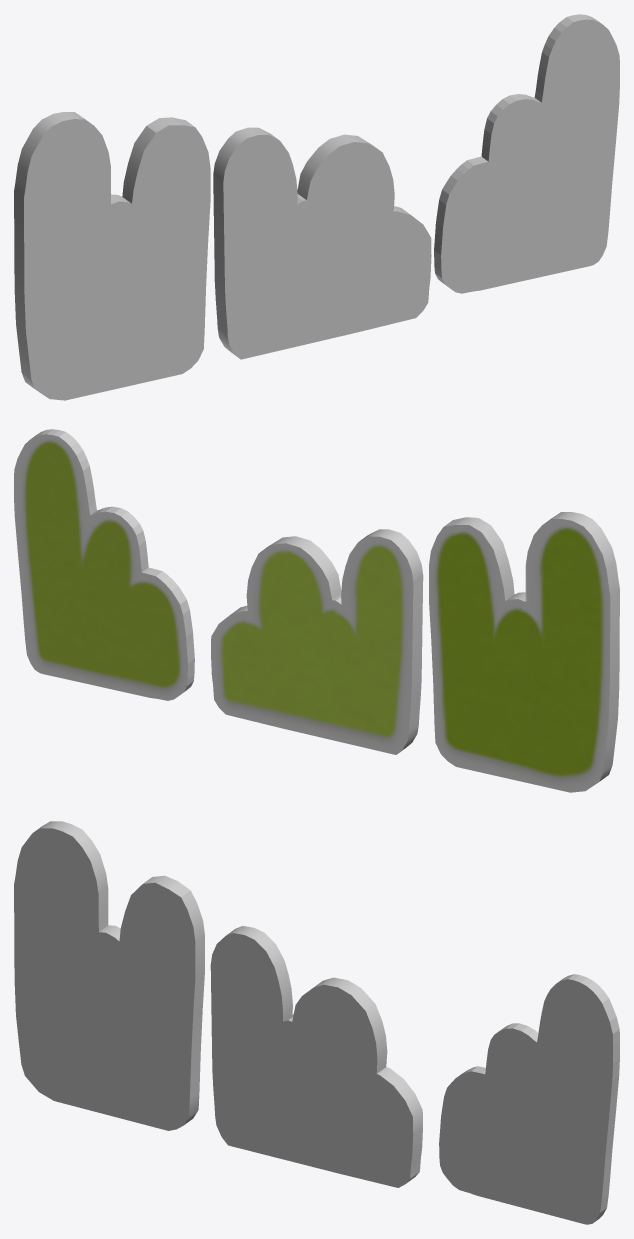
The model's file is grassTufts 1.fbx.
3 renders of one model, top to bottom at view 1: azimuth 30°, elevation 25°; view 2: azimuth 150°, elevation 25°; view 3: azimuth 330°, elevation 25°, orthographic. The views are drawn at different scales.
Visible parts, largest first — view 1: grass3, grass1, Vert.038; view 2: grass3, grass1, Vert.038; view 3: grass3, grass1, Vert.038.
Boxes of the visible parts, left/top/right/bottom form: grass3: left=14, top=112, right=210, bottom=400; grass1: left=213, top=127, right=431, bottom=359; Vert.038: left=434, top=14, right=619, bottom=293; grass3: left=429, top=512, right=619, bottom=792; grass1: left=211, top=529, right=423, bottom=754; Vert.038: left=14, top=429, right=194, bottom=700; grass3: left=14, top=821, right=204, bottom=1130; grass1: left=210, top=926, right=422, bottom=1187; Vert.038: left=439, top=974, right=619, bottom=1224.
Size of the model in its own units: 254 by 114 by 12.69.
